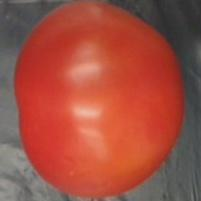unripe: (12, 0, 187, 201)
